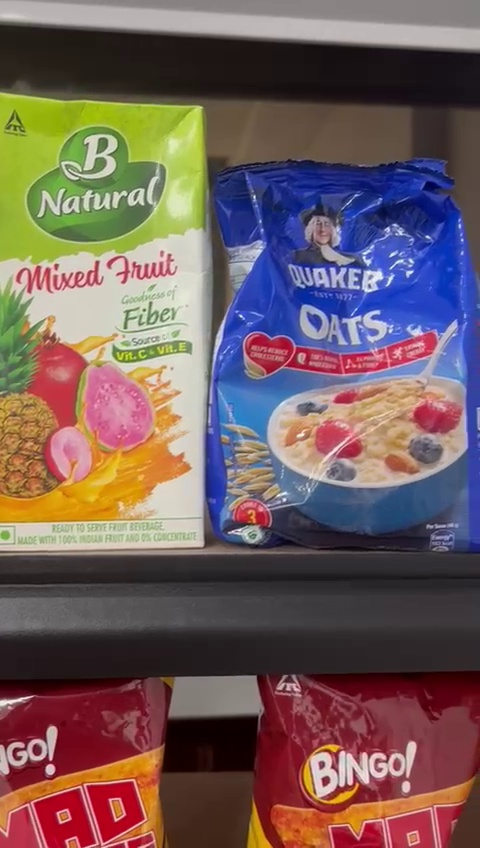Mixed Fruit: (1, 91, 210, 548)
Quaker Oats: (206, 163, 480, 555)
